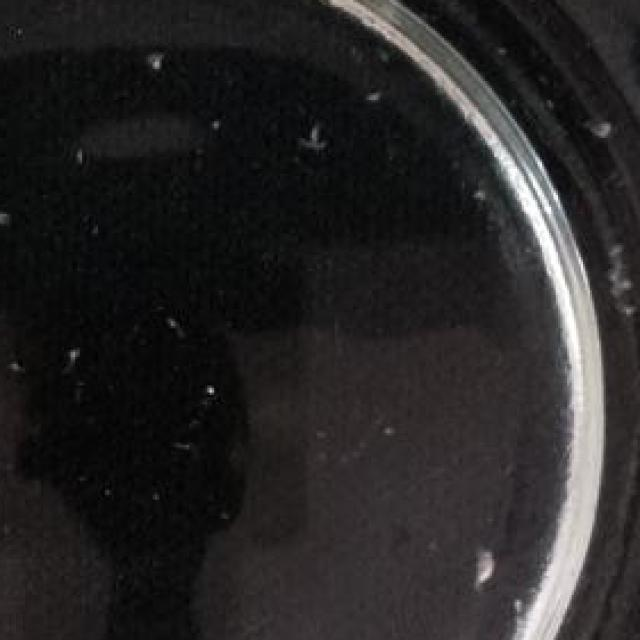Microplastic: (592, 235, 640, 338), (464, 542, 514, 592)
